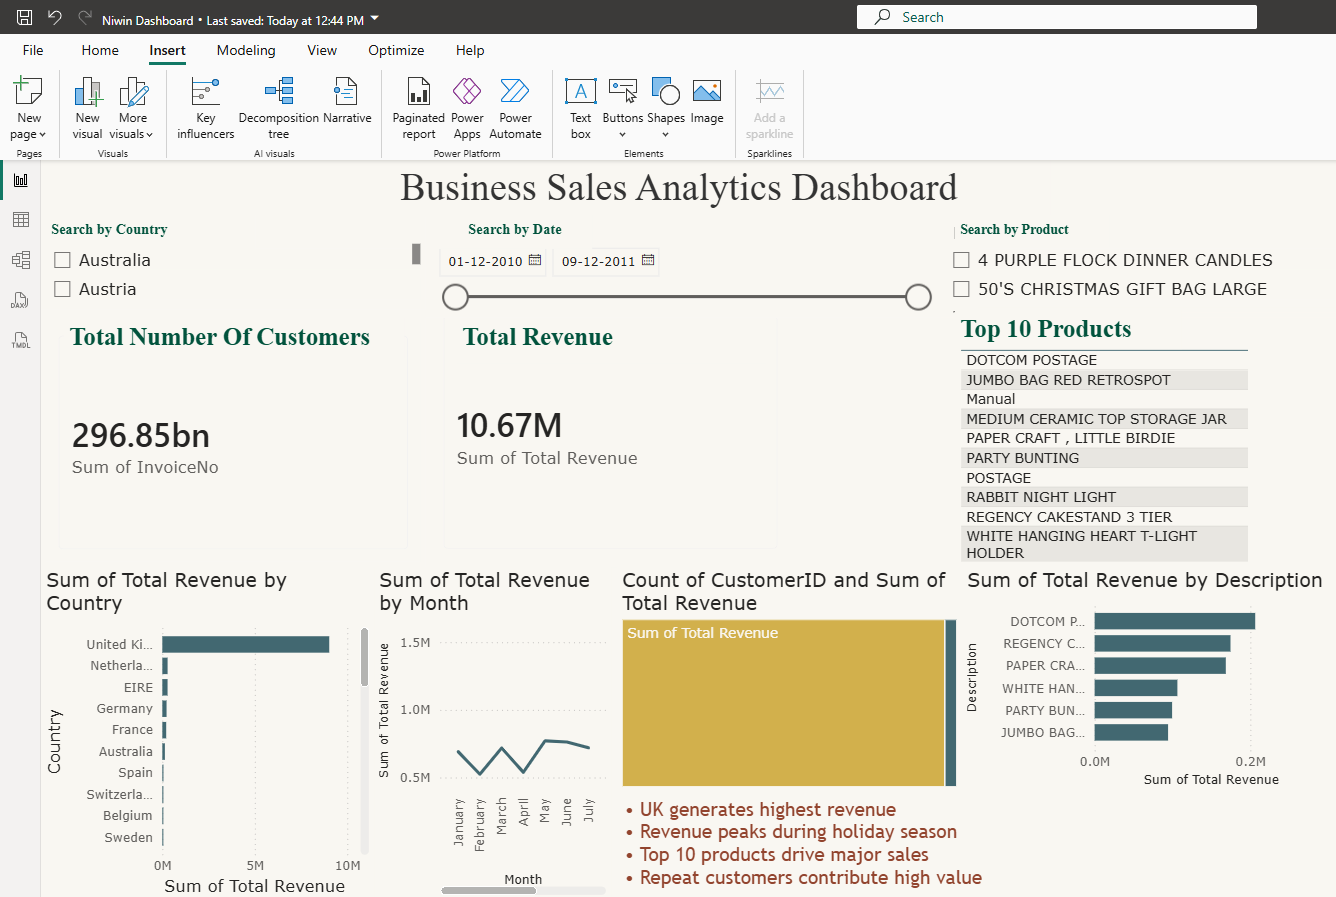

The dashboard page shown, as its layout file describes it:
{"tool":"powerbi","page":{"name":"Page 1","canvas":[1280,720],"ordinal":0},"visuals":[{"type":"slicer","fields":{"Values":["online_retail.Country"]},"box":[0,55.4,374.5,90.5],"z":0},{"type":"cardVisual","fields":{"Data":["Sum(online_retail.Revenue)"]},"box":[374.5,134.2,359.9,261.6],"z":1000},{"type":"cardVisual","fields":{"Data":["Sum(online_retail.InvoiceNo)"]},"box":[0,153.7,374.5,242.2],"z":2000},{"type":"lineChart","fields":{"Category":["online_retail.InvoiceDate.Variation.Date Hierarchy.Month"],"Y":["Sum(online_retail.Revenue)"]},"box":[323.9,395.9,230.5,323.9],"z":3000},{"type":"clusteredBarChart","fields":{"Category":["online_retail.Description"],"Y":["Sum(online_retail.Revenue)"]},"box":[895.8,395.9,384.2,218.8],"z":4000},{"type":"tableEx","fields":{"Values":["online_retail.Description"]},"box":[889,153.7,299.6,242.2],"z":5000},{"type":"barChart","fields":{"Category":["online_retail.Country"],"Y":["Sum(online_retail.Revenue)"]},"box":[0,395.9,323.9,323.9],"z":6000},{"type":"treemap","fields":{"Values":["CountNonNull(online_retail.CustomerID)","Sum(online_retail.Revenue)"]},"box":[560.2,395.9,335.6,218.8],"z":7000},{"type":"slicer","fields":{"Values":["online_retail.Description"]},"box":[874.4,55.4,405.6,98.2],"z":8000},{"type":"slicer","fields":{"Values":["online_retail.InvoiceDate"]},"box":[374.5,58.4,499.9,95.3],"z":9000},{"type":"textbox","box":[404.6,153.7,299.6,43.8],"z":11000},{"type":"textbox","box":[22.4,153.7,330.7,38.9],"z":12000},{"type":"textbox","box":[259.7,0,721.7,55.4],"z":13000},{"type":"textbox","box":[889,145.9,219.8,37.9],"z":13001},{"type":"textbox","box":[4.9,53.5,204.3,33.1],"z":13002},{"type":"textbox","box":[386.1,53.5,149.8,33.1],"z":13003},{"type":"textbox","box":[889,53.5,149.8,31.1],"z":13004},{"type":"textbox","box":[562.2,614.7,717.8,105],"z":13005}]}

Visuals, with their boxes on the page's 1280x720 design canvas (x1, y1, x2, y2). These are canvas units, not pixel positions in the 1336x897 screenshot, which may show the page scaled, cropped or inside an application window:
slicer - online_retail.Country: bbox=(0, 55, 374, 146)
cardVisual - Sum(online_retail.Revenue): bbox=(374, 134, 734, 396)
cardVisual - Sum(online_retail.InvoiceNo): bbox=(0, 154, 374, 396)
lineChart - online_retail.InvoiceDate.Variation.Date Hierarchy.Month x Sum(online_retail.Revenue): bbox=(324, 396, 554, 720)
clusteredBarChart - online_retail.Description x Sum(online_retail.Revenue): bbox=(896, 396, 1280, 615)
tableEx - online_retail.Description: bbox=(889, 154, 1189, 396)
barChart - online_retail.Country x Sum(online_retail.Revenue): bbox=(0, 396, 324, 720)
treemap - CountNonNull(online_retail.CustomerID) x Sum(online_retail.Revenue): bbox=(560, 396, 896, 615)
slicer - online_retail.Description: bbox=(874, 55, 1280, 154)
slicer - online_retail.InvoiceDate: bbox=(374, 58, 874, 154)
textbox: bbox=(405, 154, 704, 198)
textbox: bbox=(22, 154, 353, 193)
textbox: bbox=(260, 0, 981, 55)
textbox: bbox=(889, 146, 1109, 184)
textbox: bbox=(5, 54, 209, 87)
textbox: bbox=(386, 54, 536, 87)
textbox: bbox=(889, 54, 1039, 85)
textbox: bbox=(562, 615, 1280, 720)
